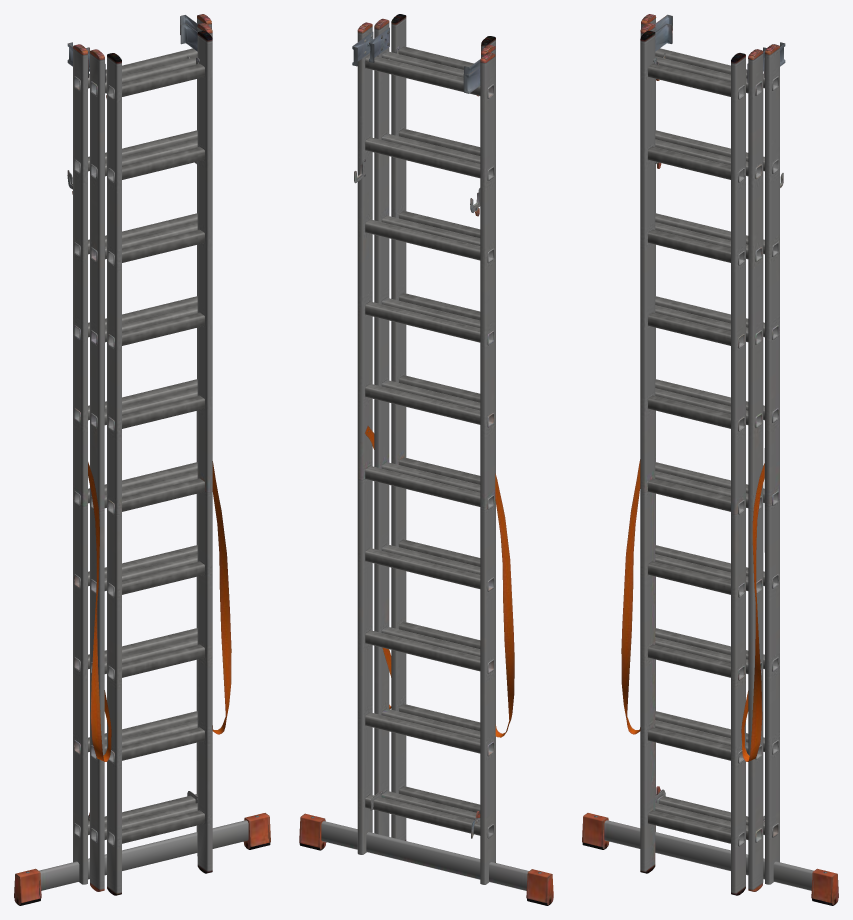
File: ladder_sectioned_01.glb
3 renders of one model, left to right at view 1: azimuth 30°, elevation 25°; view 2: azimuth 150°, elevation 25°; view 3: azimuth 330°, elevation 25°, orthographic.
Parts seen in each view (by area): view 1: ladder_section_03, ladder_section_01, ladder_section_02, ladder_ribbon; view 2: ladder_section_01, ladder_section_02, ladder_section_03, ladder_ribbon; view 3: ladder_section_03, ladder_section_01, ladder_section_02, ladder_ribbon.
Part boxes in pixels (<box>): ladder_section_03: <box>106,30,212,895</box>; ladder_section_01: <box>14,14,270,905</box>; ladder_section_02: <box>86,23,212,891</box>; ladder_ribbon: <box>88,461,231,761</box>; ladder_section_01: <box>299,22,553,905</box>; ladder_section_02: <box>369,18,495,862</box>; ladder_section_03: <box>388,14,495,862</box>; ladder_ribbon: <box>365,426,514,737</box>; ladder_section_03: <box>640,30,745,895</box>; ladder_section_01: <box>582,14,838,905</box>; ladder_section_02: <box>640,23,766,891</box>; ladder_ribbon: <box>621,459,764,761</box>.
Size of the model in its own units: 0.6616 by 2.13 by 0.1776.
Materials: 1 (1 with a texture image).
